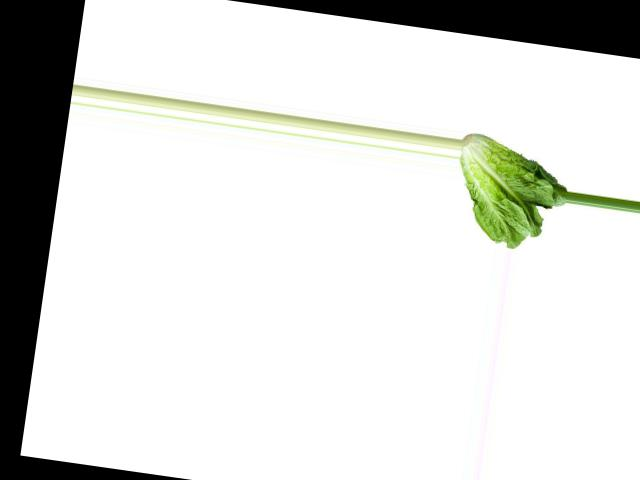lettuce: (449, 131, 571, 256)
